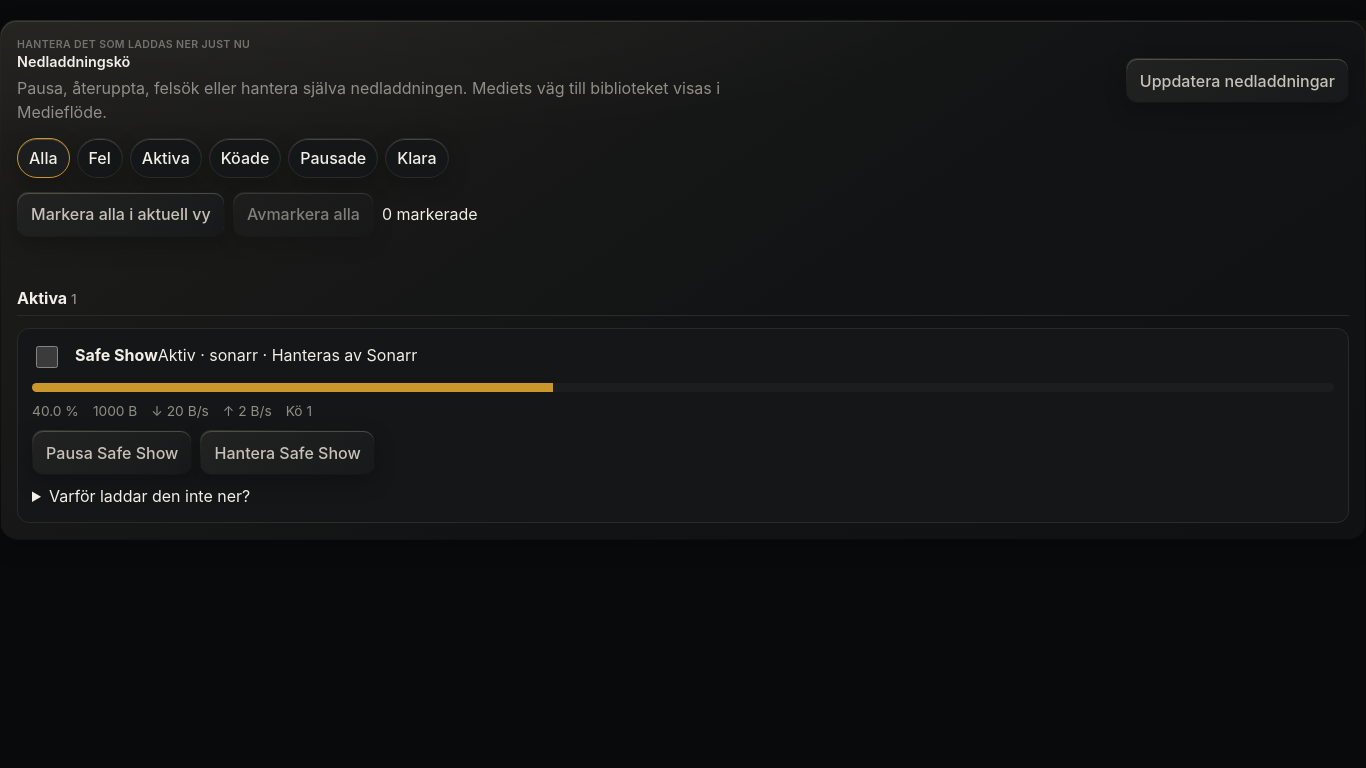
Test: normal removal preserves files, locks double click and removes the row after success
Step 1. Click the button "Hantera Safe Show" → x=288, y=453, box top-left (200, 430), bottom-right (375, 475)
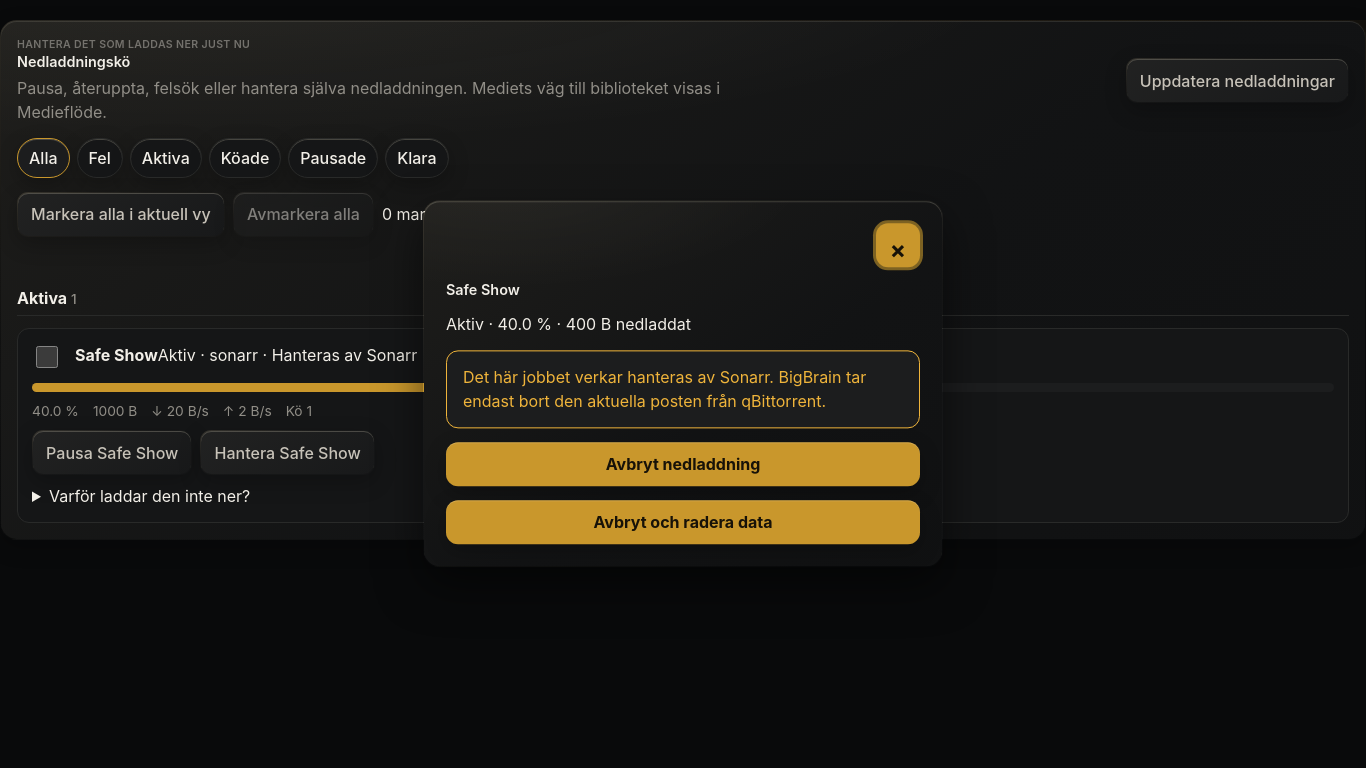
Step 2. Click the button "Avbryt nedladdning" → x=683, y=465, box top-left (446, 443), bottom-right (920, 487)
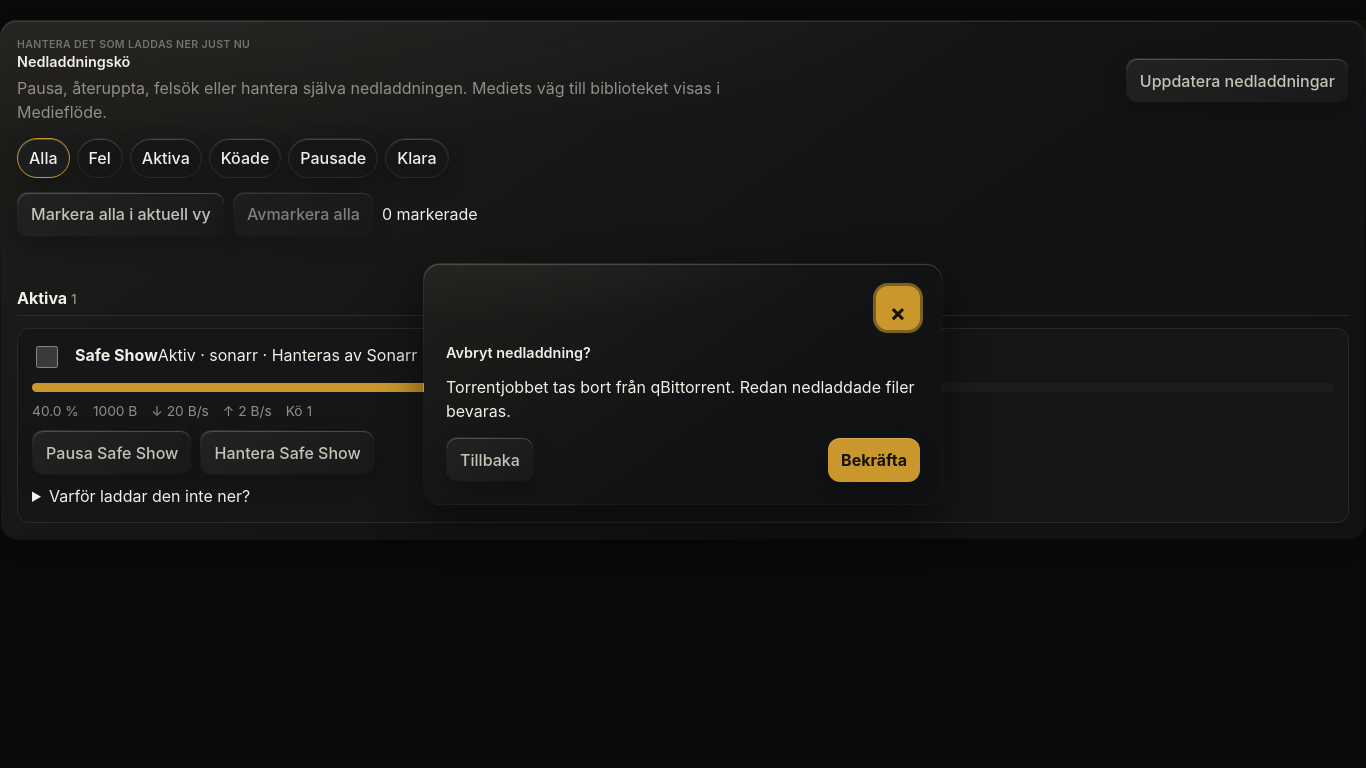
Check: the button "Bekräfta" is enabled
Check: the text "Torrentjobbet tas bort från qBittorrent. Redan nedladdade filer bevaras." is shown, box top-left (446, 375), bottom-right (920, 423)
Step 3. Click the button "Bekräfta" → x=874, y=460, box top-left (828, 438), bottom-right (920, 482)
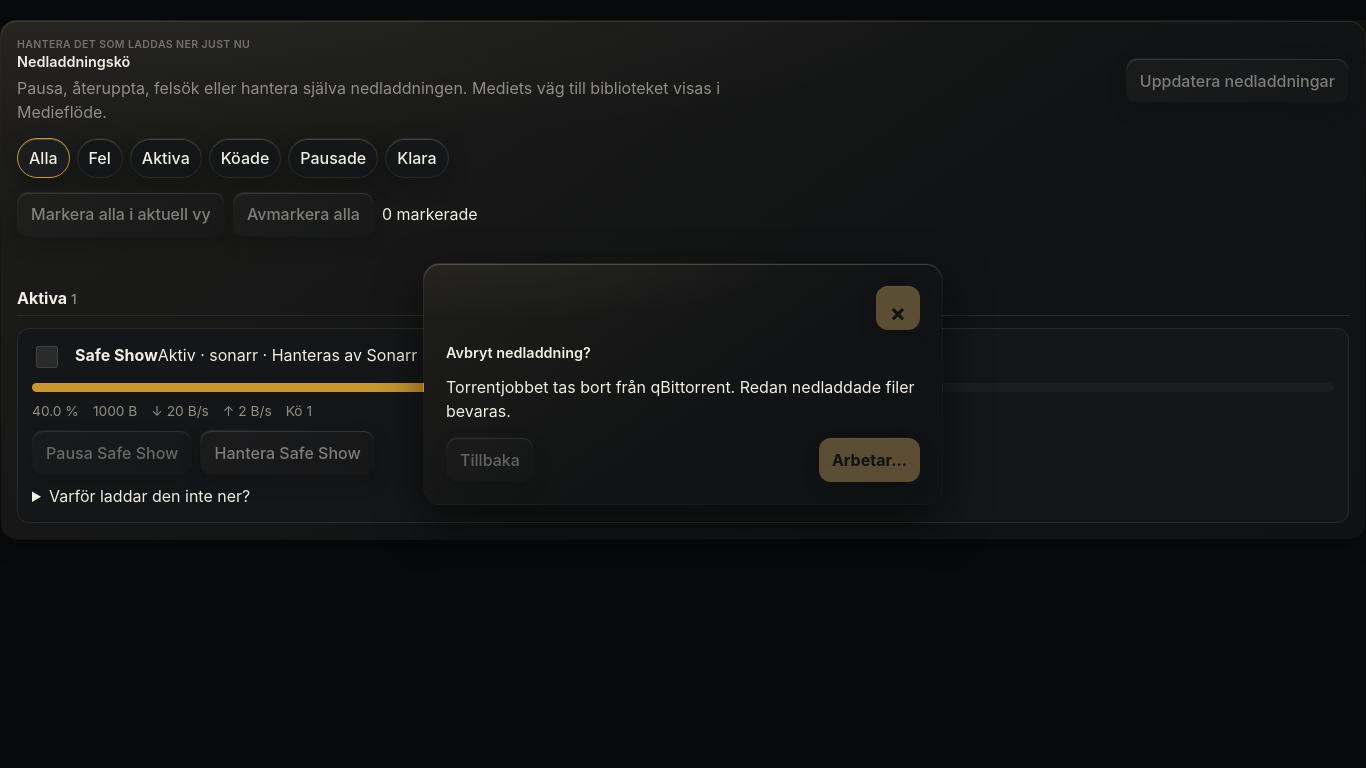
Step 4. Click the button named "Bekräfta" → x=869, y=460, box top-left (819, 438), bottom-right (920, 482)
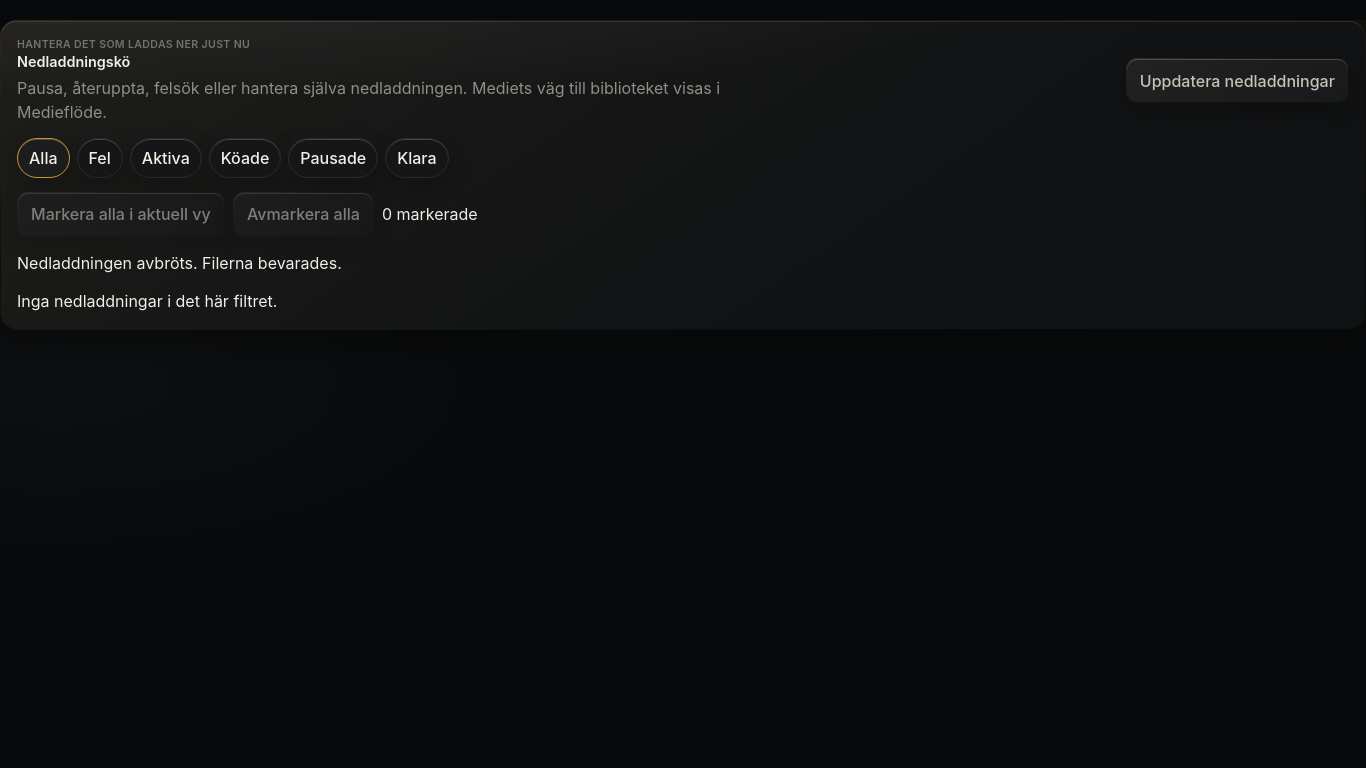
Check: the text "Nedladdningen avbröts. Filerna bevarades." is shown, box top-left (17, 253), bottom-right (342, 273)
Check: the text "Safe Show" is gone
